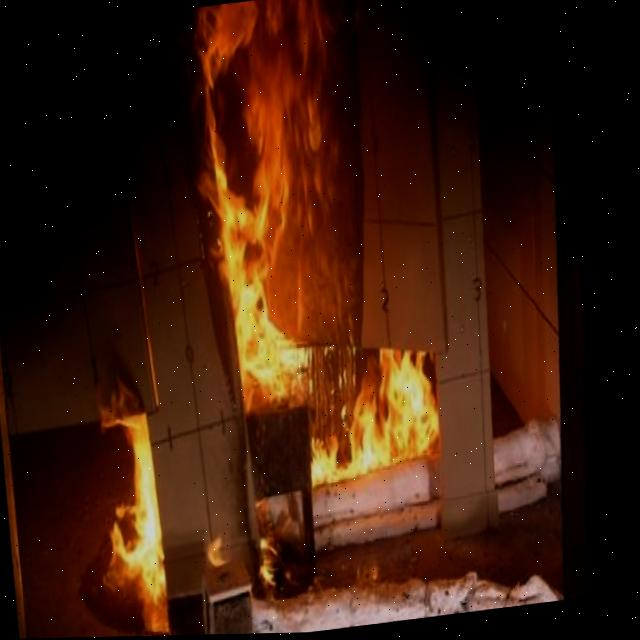fire: (189, 0, 443, 485), (105, 381, 173, 631), (265, 512, 310, 592), (213, 542, 229, 564)
